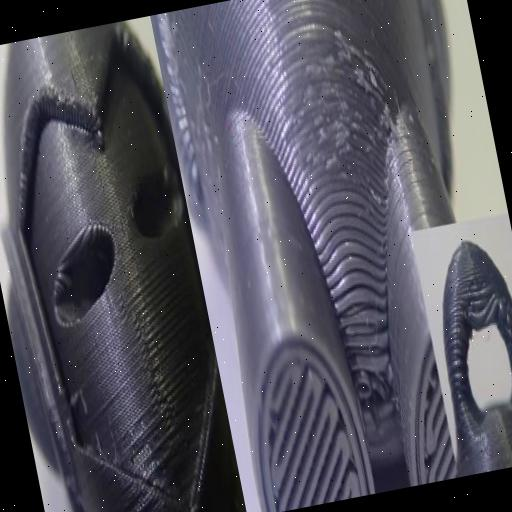cracks: (104, 416, 197, 512), (348, 348, 410, 450), (453, 252, 508, 340)
